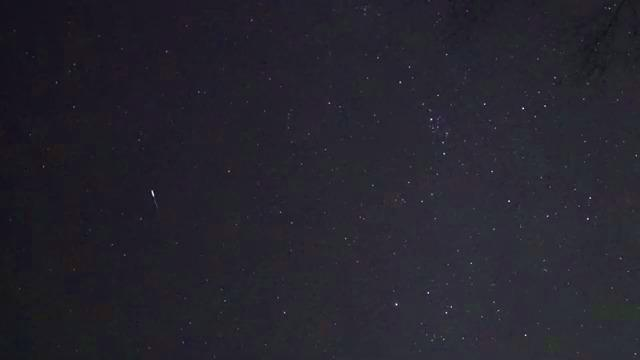meteorite: (138, 182, 170, 217)
